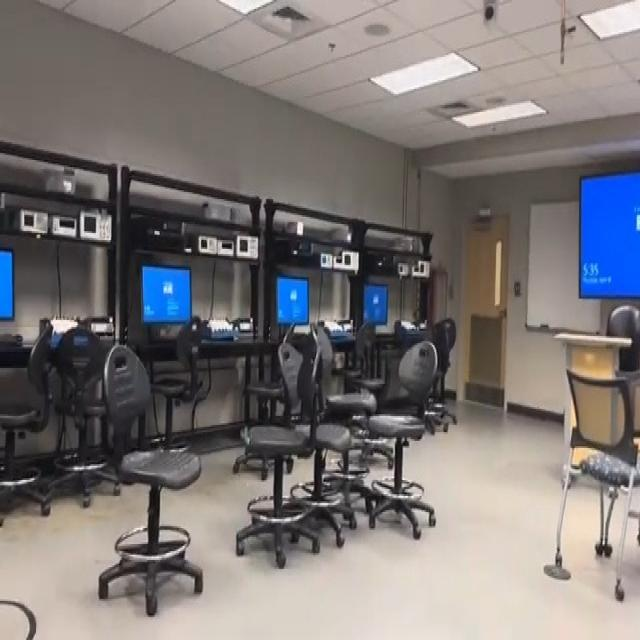drone: (232, 414, 258, 459)
